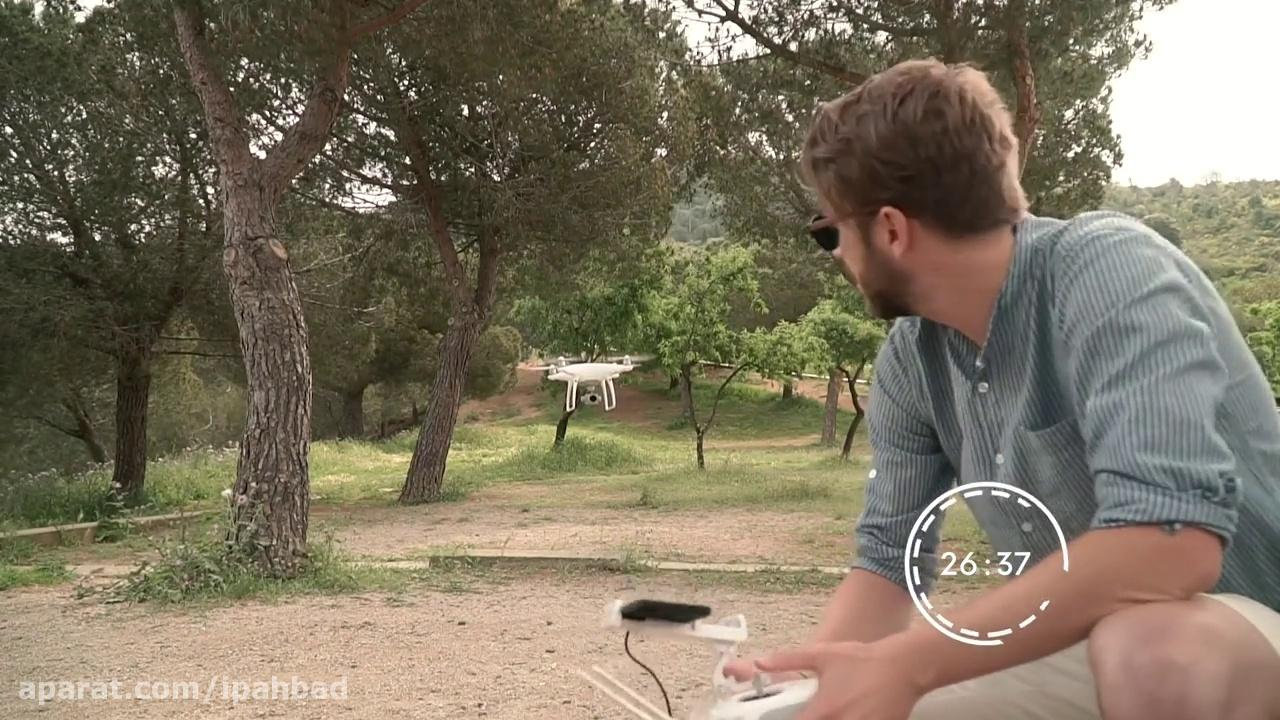drone: (528, 350, 658, 411)
